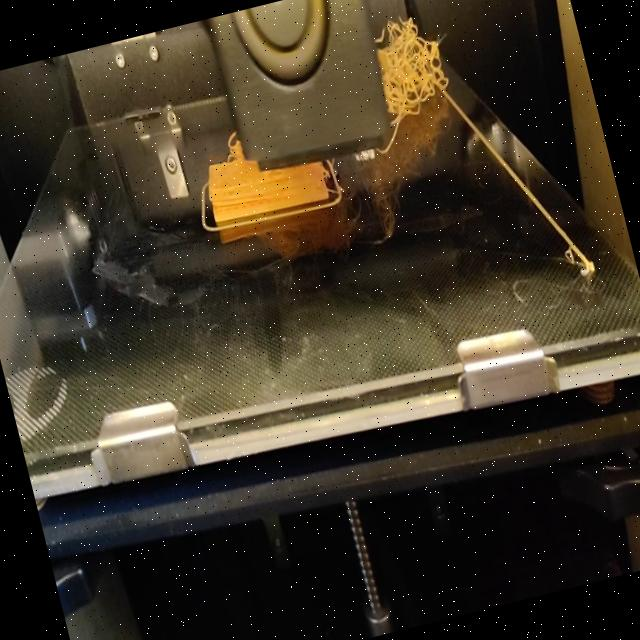spaghetti: (371, 5, 460, 126), (373, 127, 402, 163)
